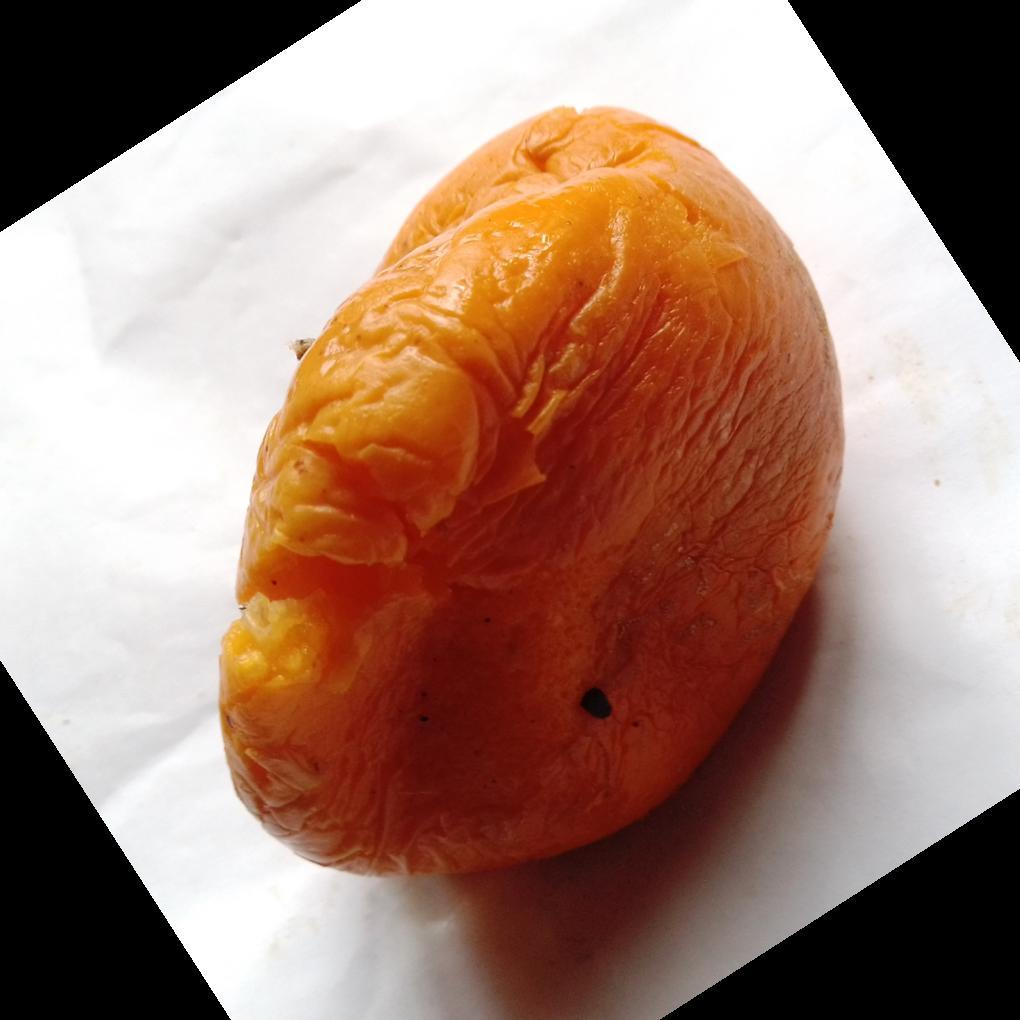FreshOrange: (213, 106, 848, 883)
